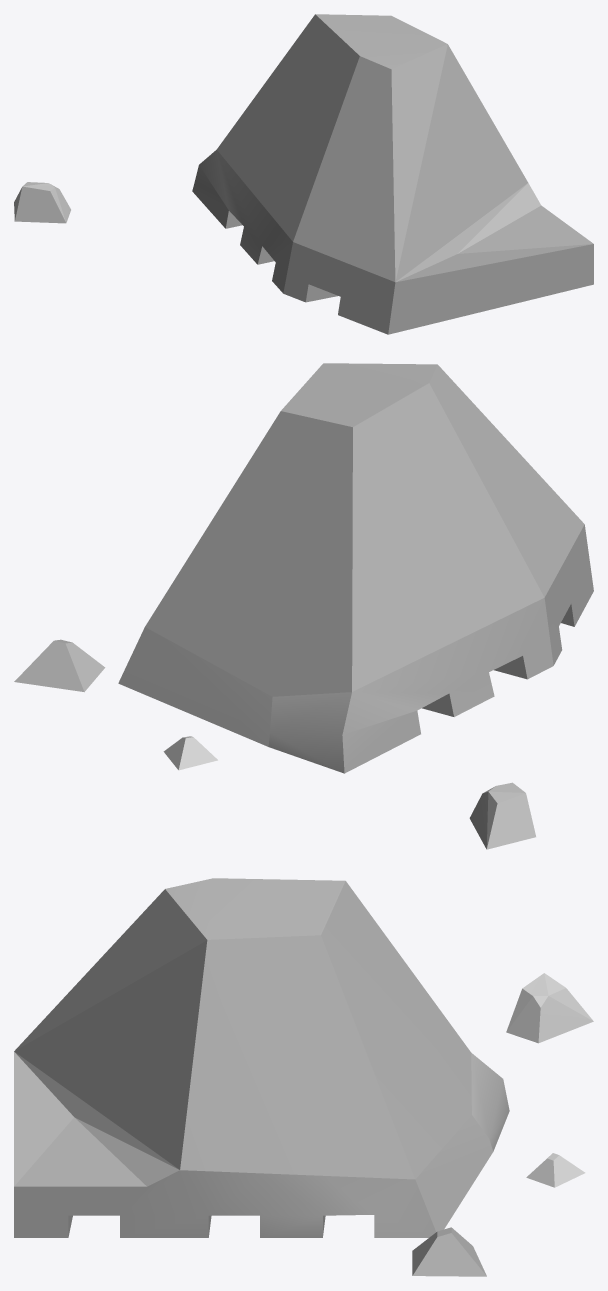
The model's file is NeutralStone2.fbx.
The picture shows the model from 3 angles, top to bottom: view 1: azimuth 30°, elevation 25°; view 2: azimuth 150°, elevation 25°; view 3: azimuth 270°, elevation 25°; orthographic projection. The views are drawn at different scales.
Visible parts, largest first — view 1: NeutralStone2_LOD0; view 2: NeutralStone2_LOD0; view 3: NeutralStone2_LOD0.
Part boxes in pixels (x1,y1,x2,y2): NeutralStone2_LOD0: (14, 14, 593, 334); NeutralStone2_LOD0: (14, 363, 593, 849); NeutralStone2_LOD0: (14, 878, 593, 1276).
Size of what is drawn, in the model's own units: 324 by 151 by 298.
